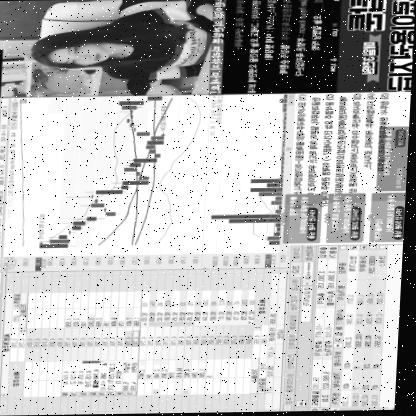streamer: (30, 0, 213, 81)
